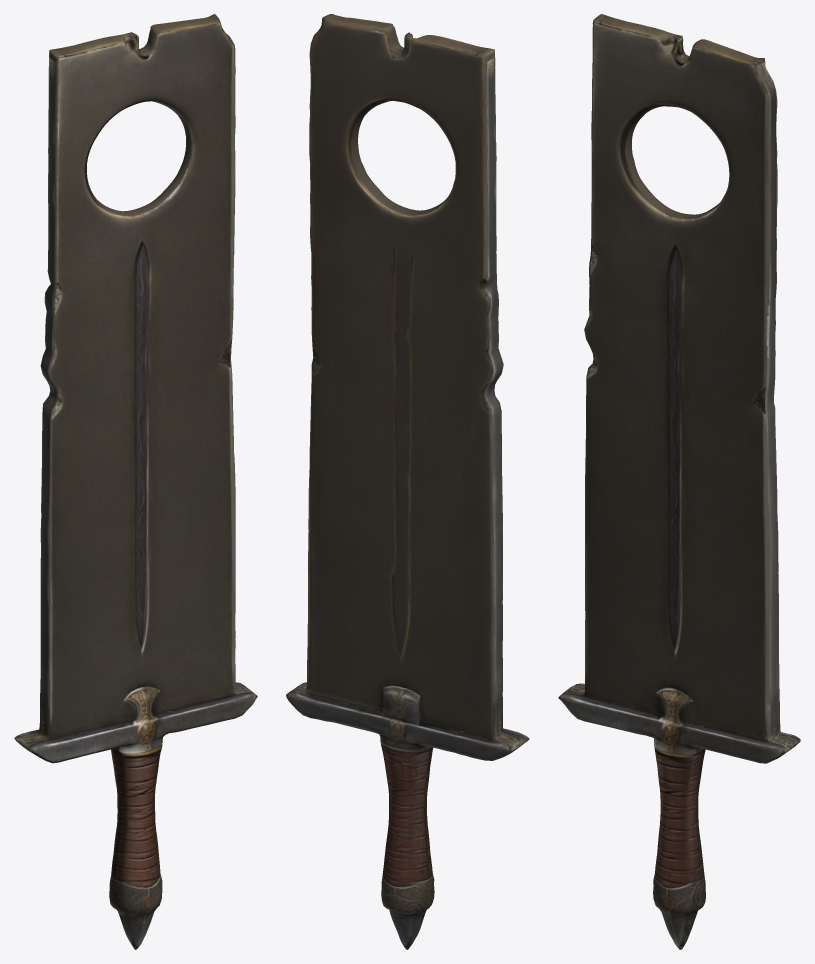
The model's file is Colossal_Blade_1213003617_texture.fbx.
The picture shows the model from 3 angles, left to right: view 1: azimuth 30°, elevation 25°; view 2: azimuth 150°, elevation 25°; view 3: azimuth 330°, elevation 25°; orthographic projection.
Visible parts, largest first — view 1: Mesh1; view 2: Mesh1; view 3: Mesh1.
Boxes of the visible parts, x1=… form: Mesh1: x1=14, y1=14, x2=257, y2=949; Mesh1: x1=286, y1=14, x2=529, y2=949; Mesh1: x1=558, y1=14, x2=800, y2=949.
Bounding box in the file's own units: 51.76 × 199 × 10.2.
Materials: 1 (1 with a texture image).
